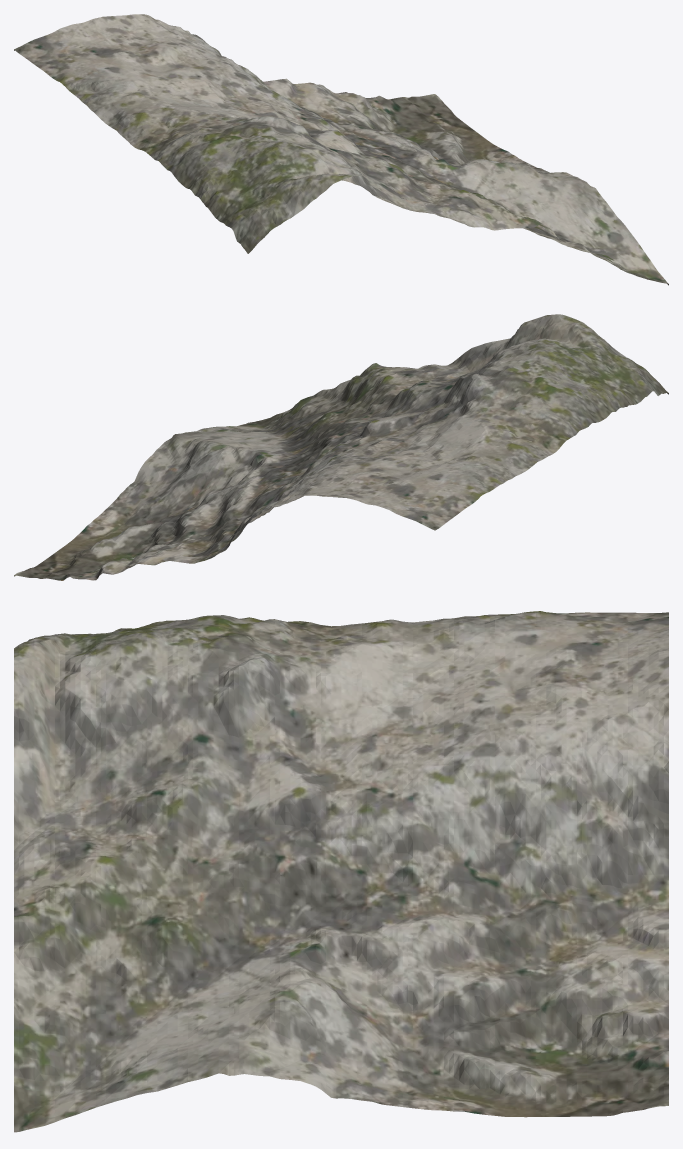
3 renders of one model, top to bottom at view 1: azimuth 30°, elevation 25°; view 2: azimuth 150°, elevation 25°; view 3: azimuth 270°, elevation 25°, orthographic. The views are drawn at different scales.
Bounding box in the file's own units: 250 × 108 × 241.
1 material, 1 textured.
